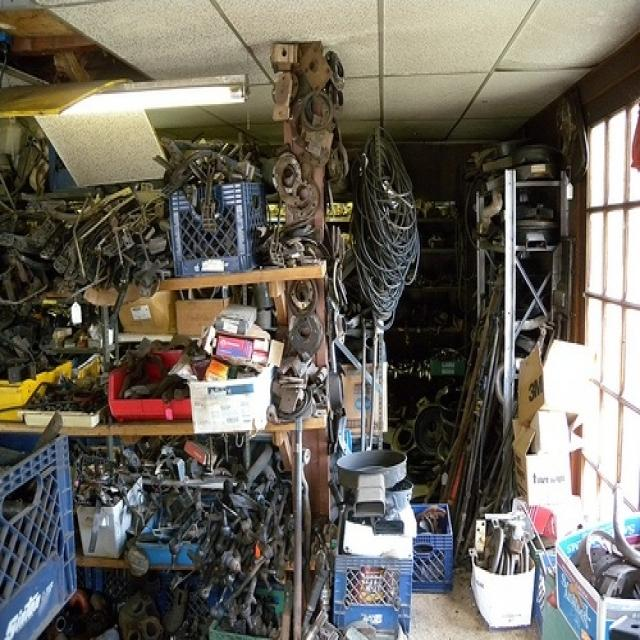Cable: (346, 122, 429, 338)
Metal: (6, 58, 640, 640)
Plastics: (4, 443, 91, 640), (333, 542, 434, 640)
